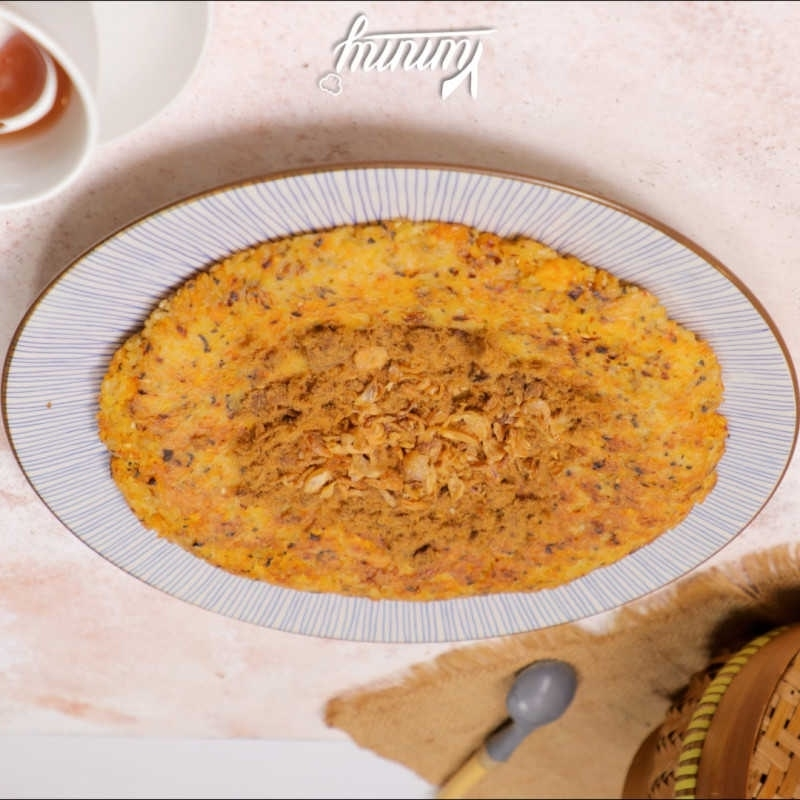kerak_telor: (97, 220, 727, 602)
